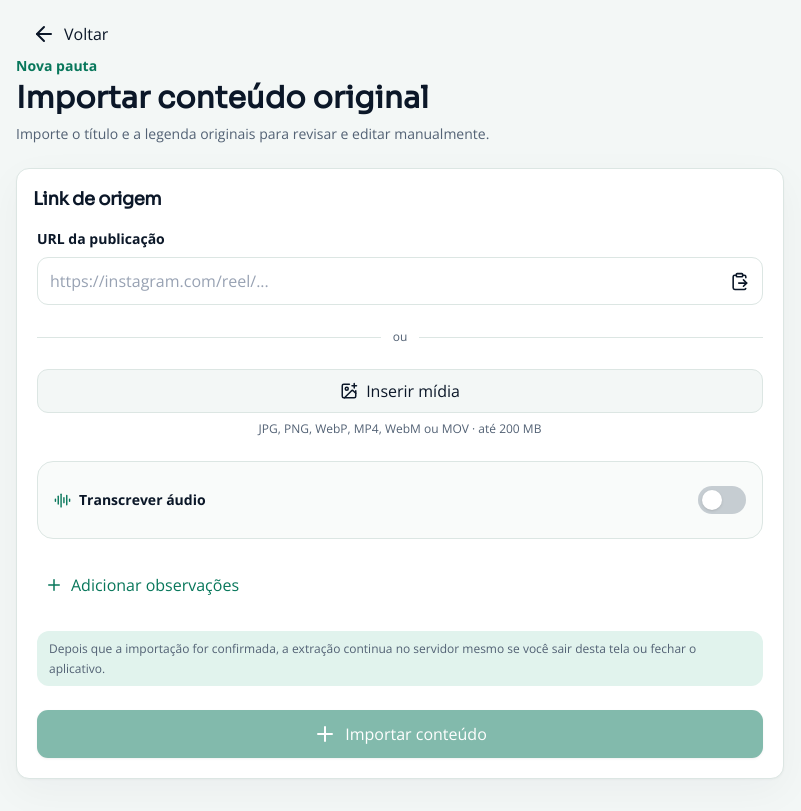
Scenario: criação automática de notícia › permite adicionar e remover observações
Click the button "Adicionar observações" at x=142, y=585, box [37,563,247,607]
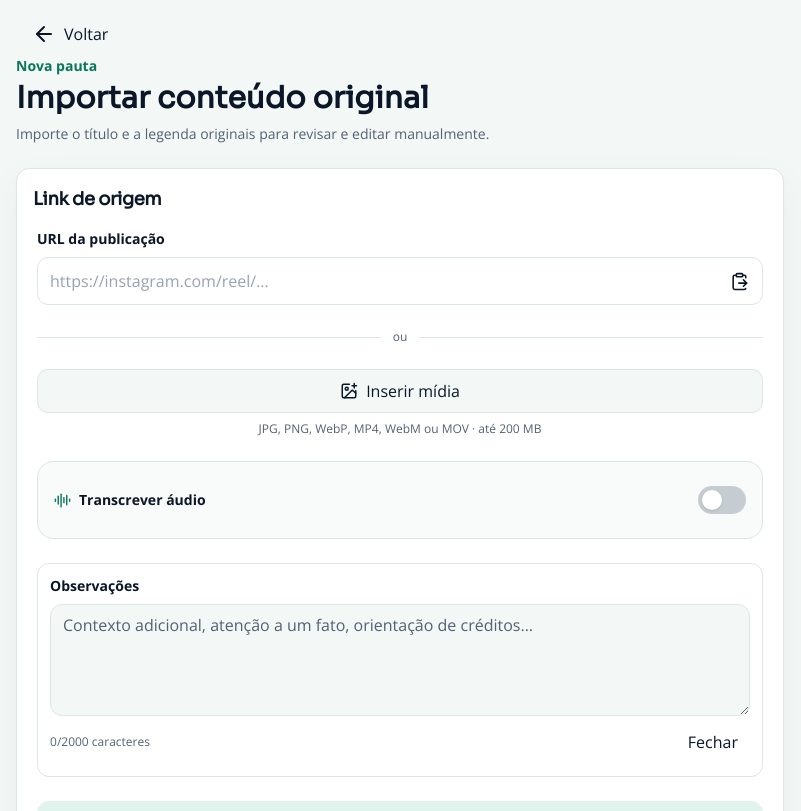
Replace the text in the text box labelled "Observações" with "Contexto adicional" at x=400, y=660, box [50,604,750,716]
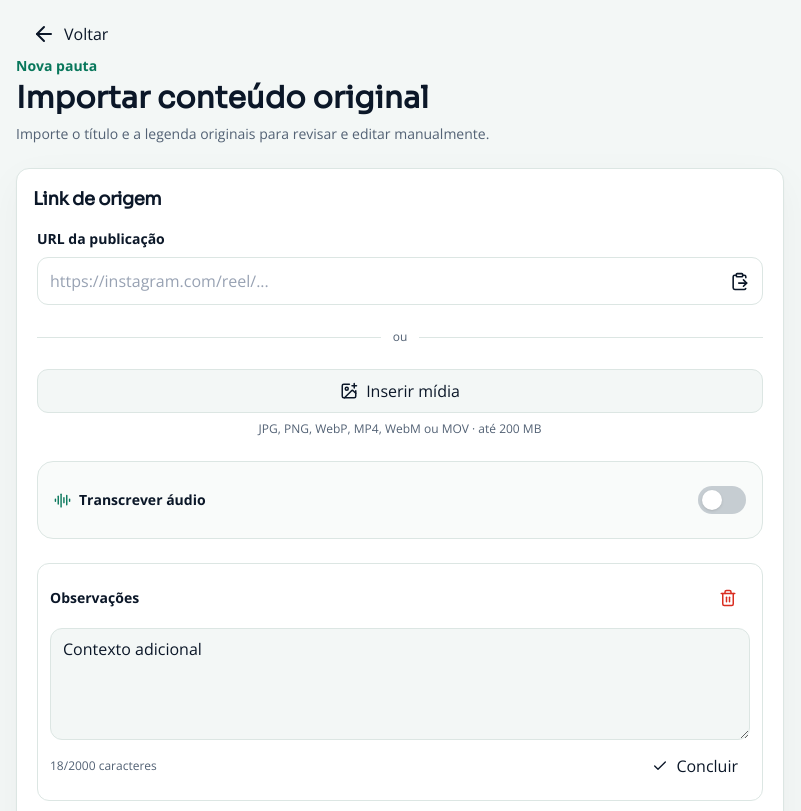
Click the button "Concluir" at x=695, y=766, box [640,744,750,788]
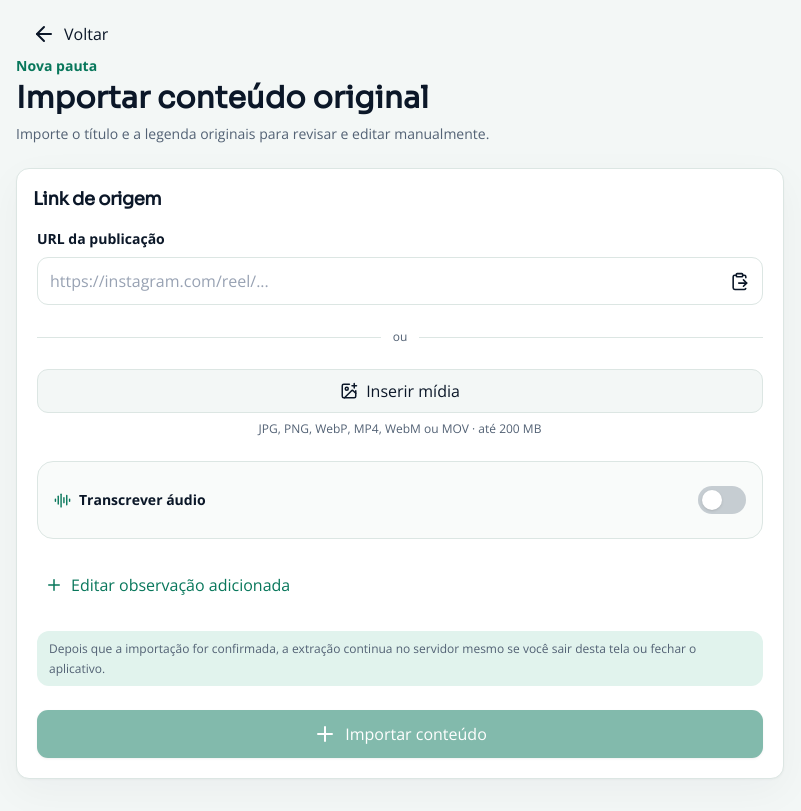
Expected: the button "Editar observação adicionada" is shown
Click the button "Editar observação adicionada" at x=168, y=585, box [37,563,298,607]
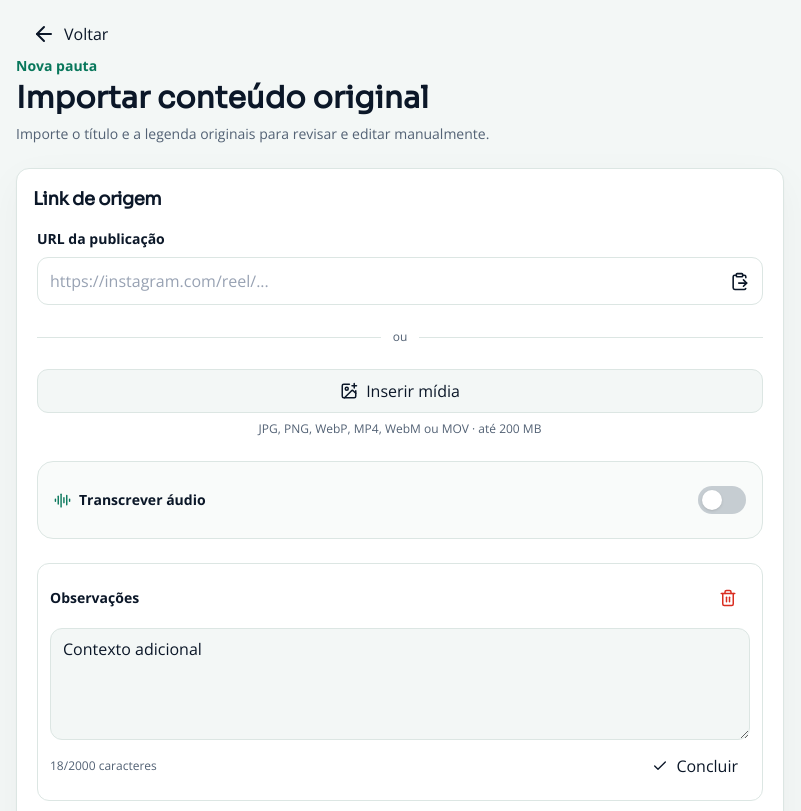
Click the button named "Remover observações" at x=728, y=598, box [706,576,750,620]
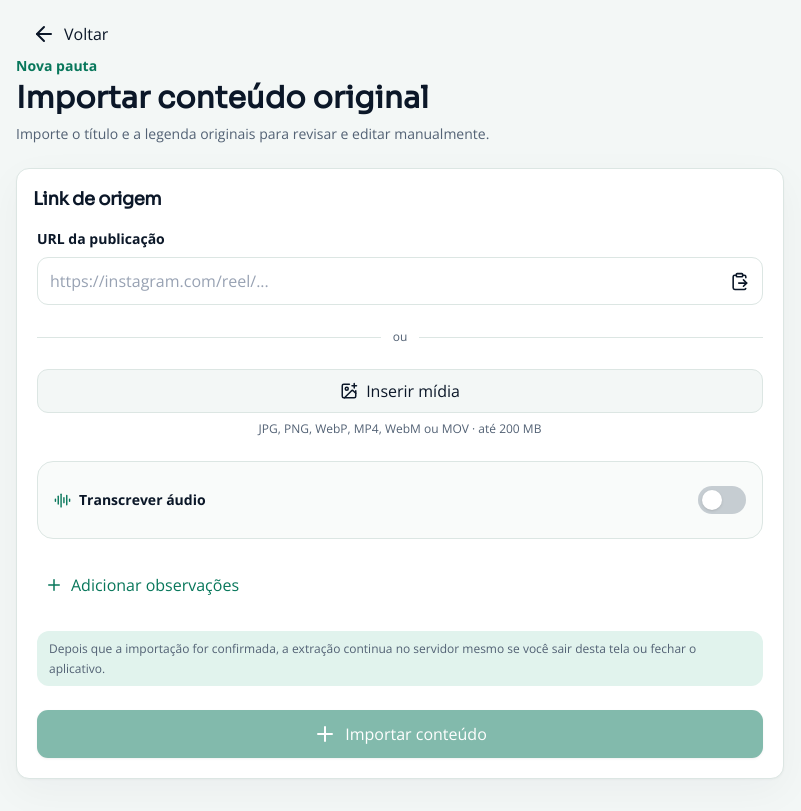
Expected: the button "Adicionar observações" is shown, [37,563,247,607]
